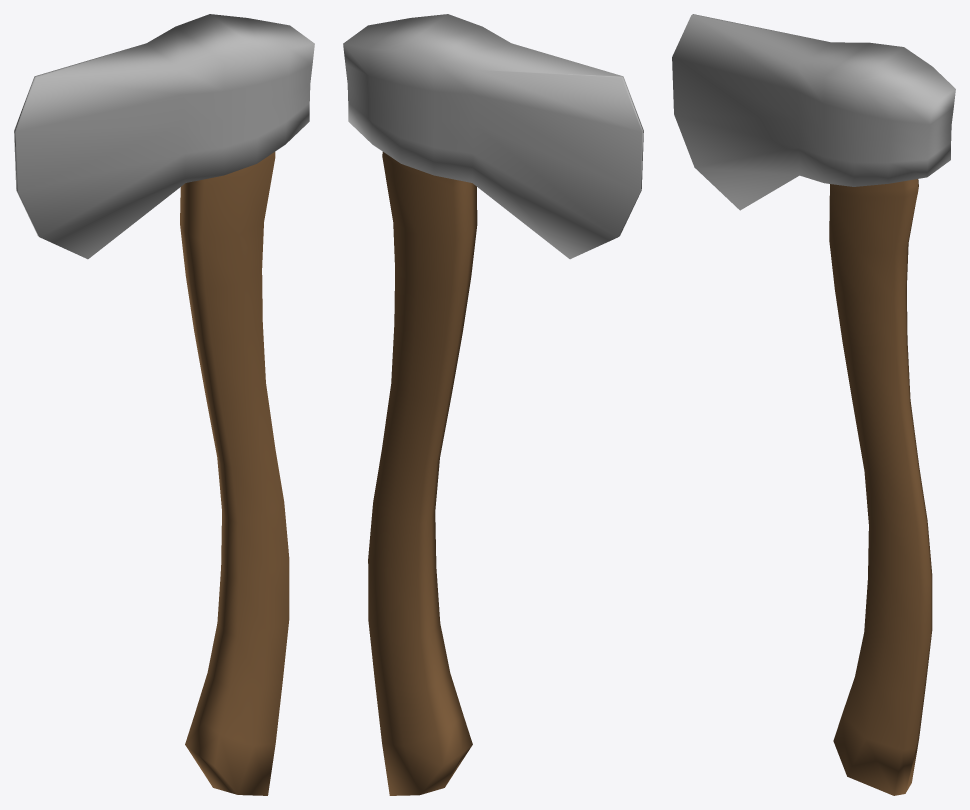
Rendered from AxeLowPoly.fbx.
The picture shows the model from 3 angles, left to right: view 1: azimuth 30°, elevation 25°; view 2: azimuth 150°, elevation 25°; view 3: azimuth 330°, elevation 25°; orthographic projection. The views are drawn at different scales.
Parts seen in each view (by area): view 1: AxeMetal.002; view 2: AxeMetal.002; view 3: AxeMetal.002.
Boxes of the visible parts, x1,y1,x2,y2 form: AxeMetal.002: [14, 14, 314, 795]; AxeMetal.002: [343, 14, 643, 795]; AxeMetal.002: [672, 14, 955, 795].
Bounding box in the file's own units: 92.18 × 236 × 27.86.
